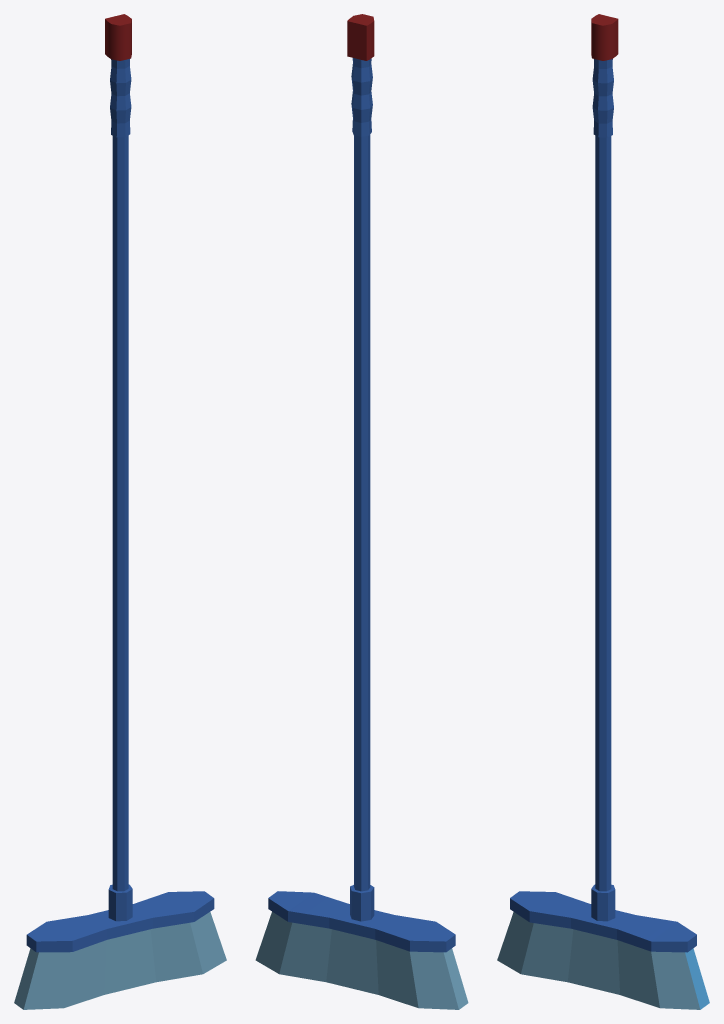
Rendered from Prop_Broom.fbx.
The picture shows the model from 3 angles, left to right: view 1: azimuth 30°, elevation 25°; view 2: azimuth 150°, elevation 25°; view 3: azimuth 330°, elevation 25°; orthographic projection.
Parts seen in each view (by area): view 1: Prop_Broom; view 2: Prop_Broom; view 3: Prop_Broom.
Part boxes in pixels (left/top/right/bottom): Prop_Broom: left=14, top=14, right=226, bottom=1009; Prop_Broom: left=255, top=14, right=468, bottom=1009; Prop_Broom: left=497, top=14, right=709, bottom=1009.
Bounding box in the file's own units: 9.18 × 41.19 × 186.
